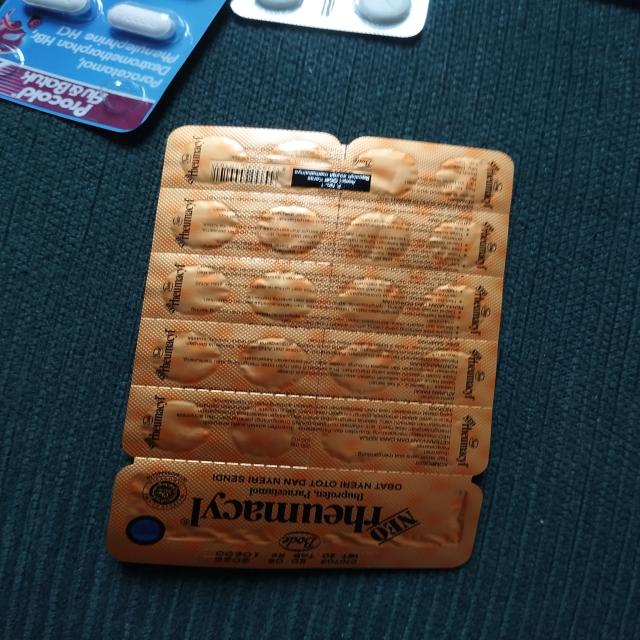B3: (100, 125, 517, 567)
